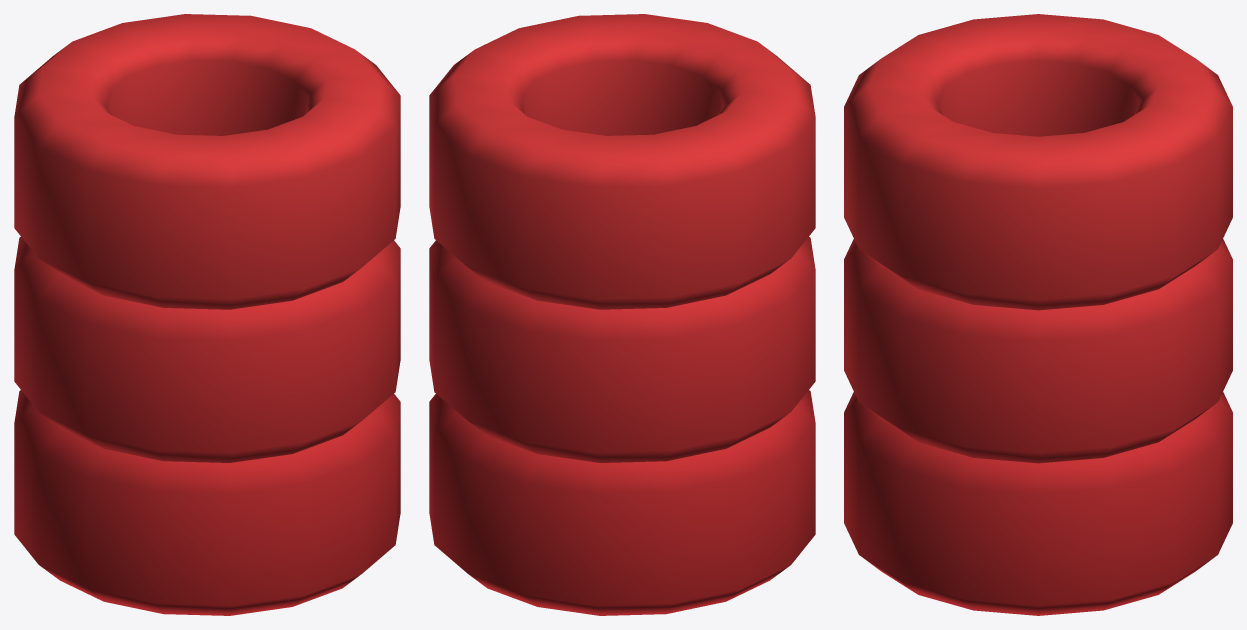
The model's file is Barrier_Wheel_06.fbx.
The picture shows the model from 3 angles, left to right: view 1: azimuth 30°, elevation 25°; view 2: azimuth 150°, elevation 25°; view 3: azimuth 270°, elevation 25°; orthographic projection.
Visible parts, largest first — view 1: Barrier_Wheel_06; view 2: Barrier_Wheel_06; view 3: Barrier_Wheel_06.
Boxes of the visible parts, x1,y1,x2,y2 form: Barrier_Wheel_06: (14,14,400,615); Barrier_Wheel_06: (429,14,815,615); Barrier_Wheel_06: (844,14,1232,615).
Size of the model in its own units: 100 by 100 by 130.
